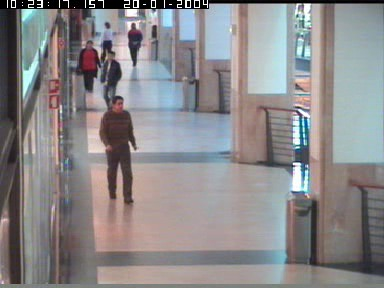person: (99, 95, 137, 203), (100, 49, 122, 115), (76, 40, 100, 92), (99, 21, 114, 68), (127, 22, 142, 67), (148, 8, 159, 39), (62, 103, 68, 119)
